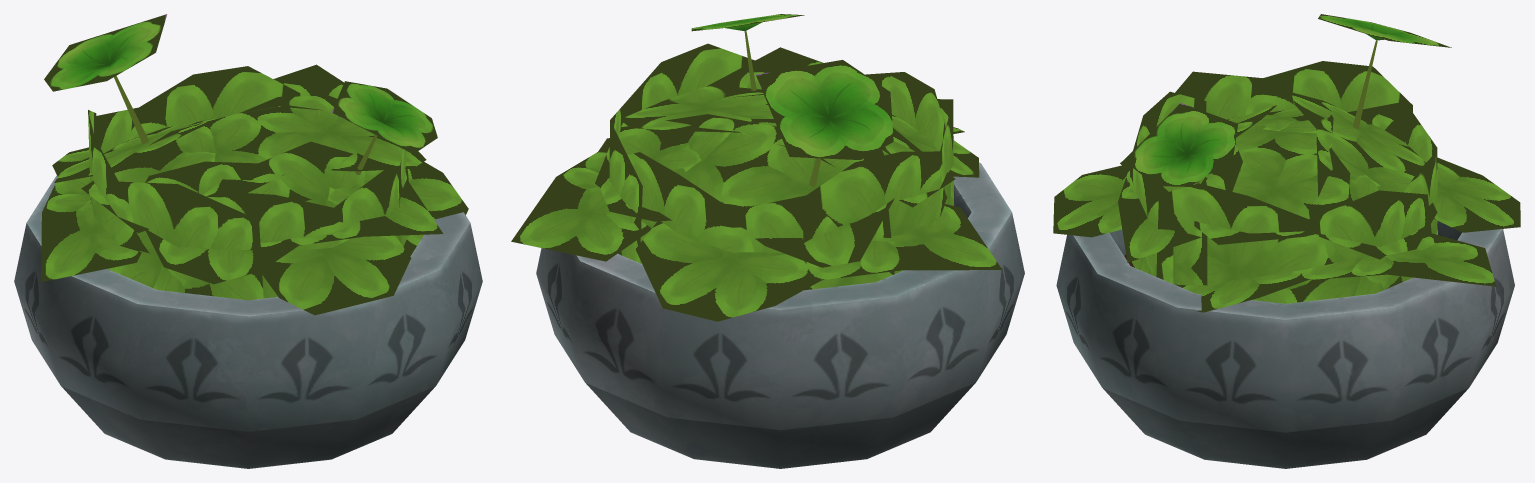
File: vase_07.fbx
3 renders of one model, left to right at view 1: azimuth 30°, elevation 25°; view 2: azimuth 150°, elevation 25°; view 3: azimuth 270°, elevation 25°, orthographic. The views are drawn at different scales.
Visible parts, largest first — view 1: vase_07_plants, vase_07; view 2: vase_07_plants, vase_07; view 3: vase_07_plants, vase_07.
Part boxes in pixels (x1,y1,x2,y2): vase_07_plants: [41, 14, 468, 315]; vase_07: [14, 175, 482, 468]; vase_07_plants: [511, 14, 1002, 321]; vase_07: [536, 162, 1024, 468]; vase_07_plants: [1053, 14, 1520, 312]; vase_07: [1056, 221, 1514, 468].
Bounding box in the file's own units: 58.45 × 47.76 × 58.52.
